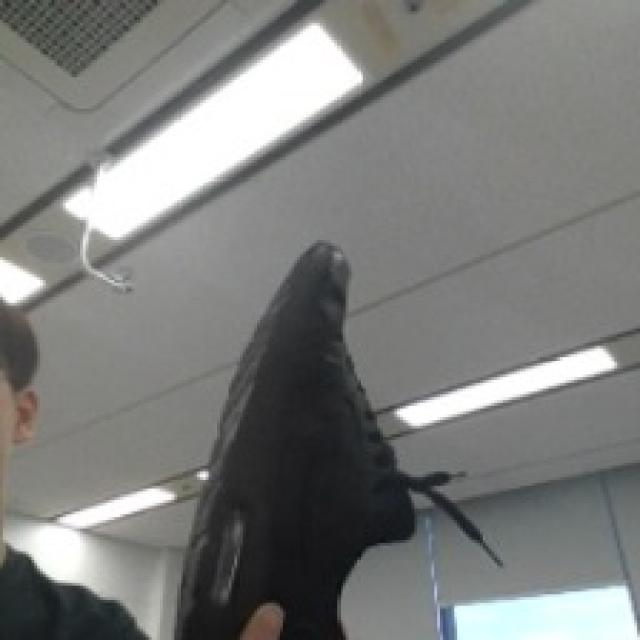shoe: (175, 237, 419, 640)
